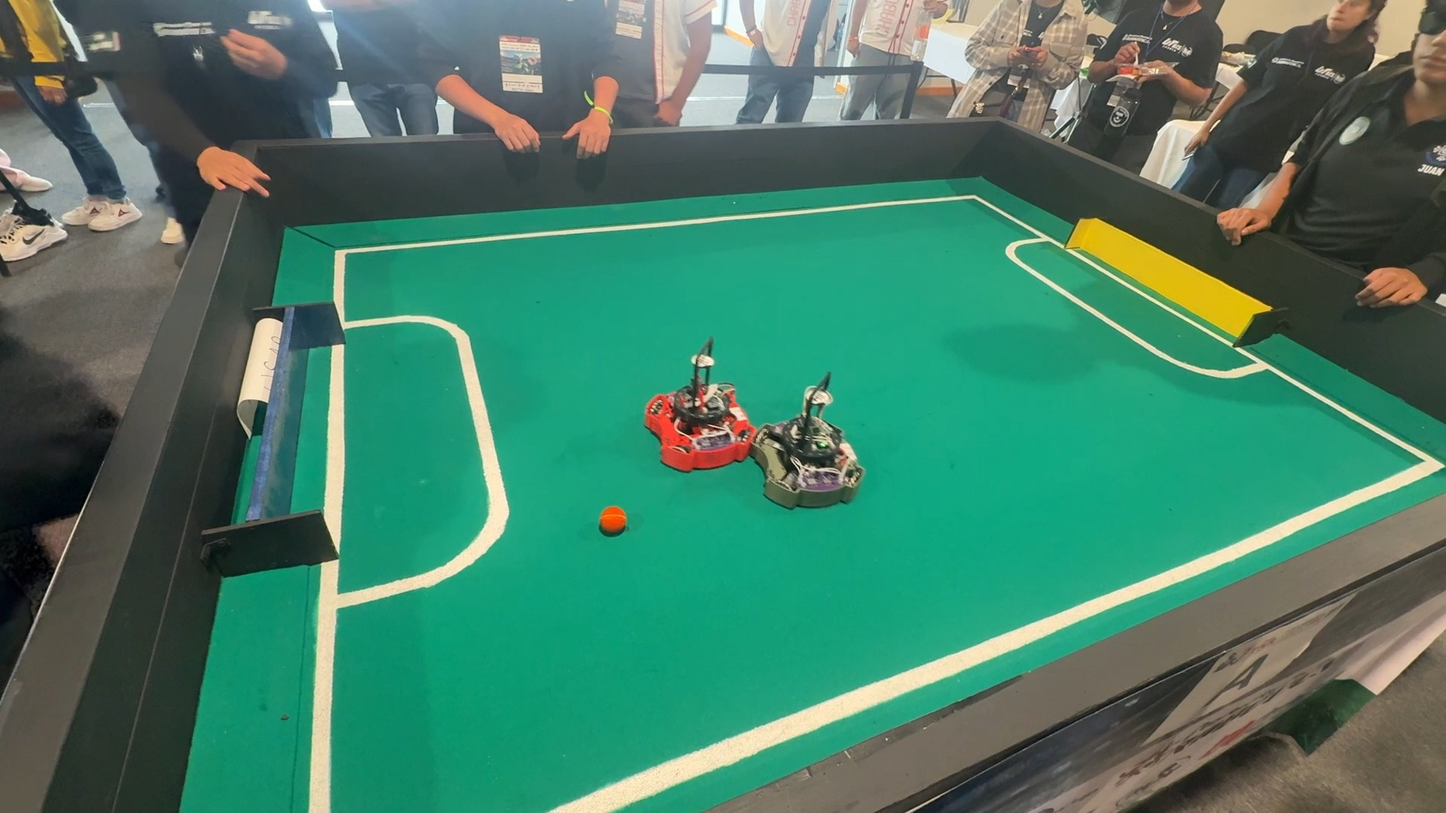Robot: (756, 364, 872, 521), (637, 336, 757, 476)
pelota: (598, 507, 635, 542)
